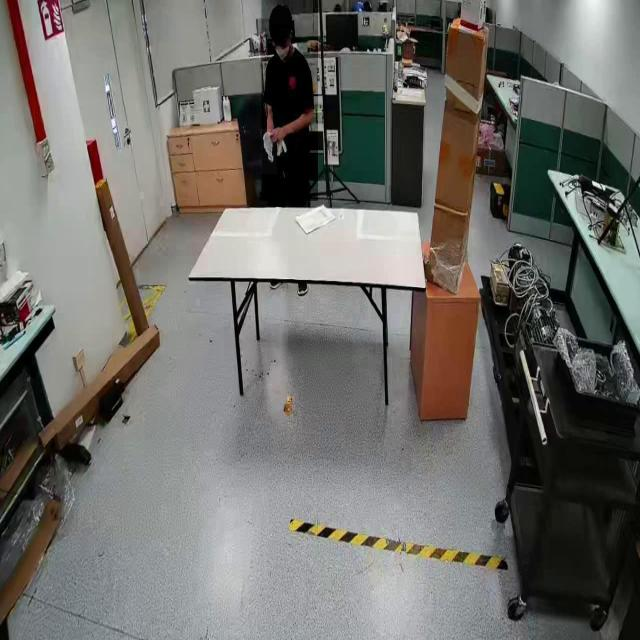face_mask: (274, 32, 294, 70)
hand_glove: (261, 129, 277, 175)
head_nohelmet: (268, 3, 292, 26)
person: (262, 0, 318, 202)
